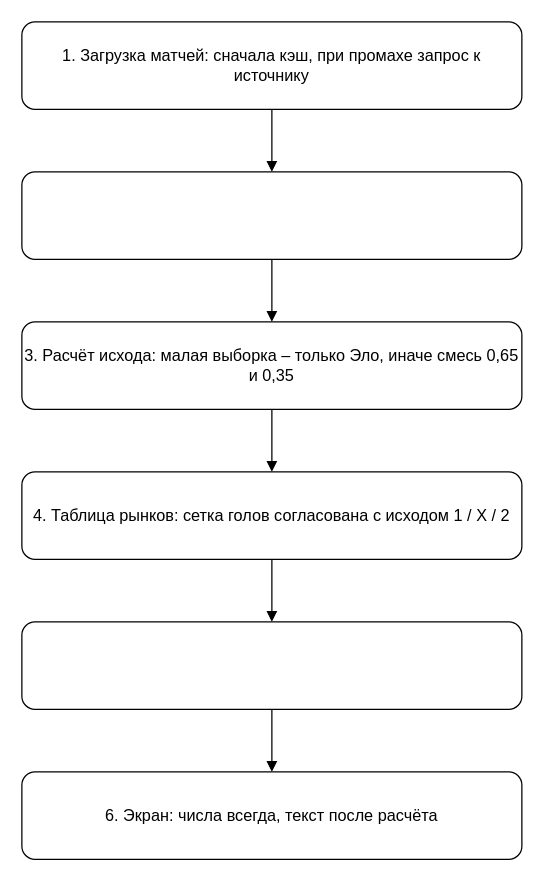
Some shapes in this 544 by 881 pixel diagram are drawn without their labels. Here are the shapes that lost their labels. From the top down, the centre of each, then its label:
At pixel 271 215: "2. Признаки: форма, очные встречи, рейтинг Эло, голы за пять матчей".
At pixel 271 665: "5. Пояснение: только переданные факты и вероятности".
